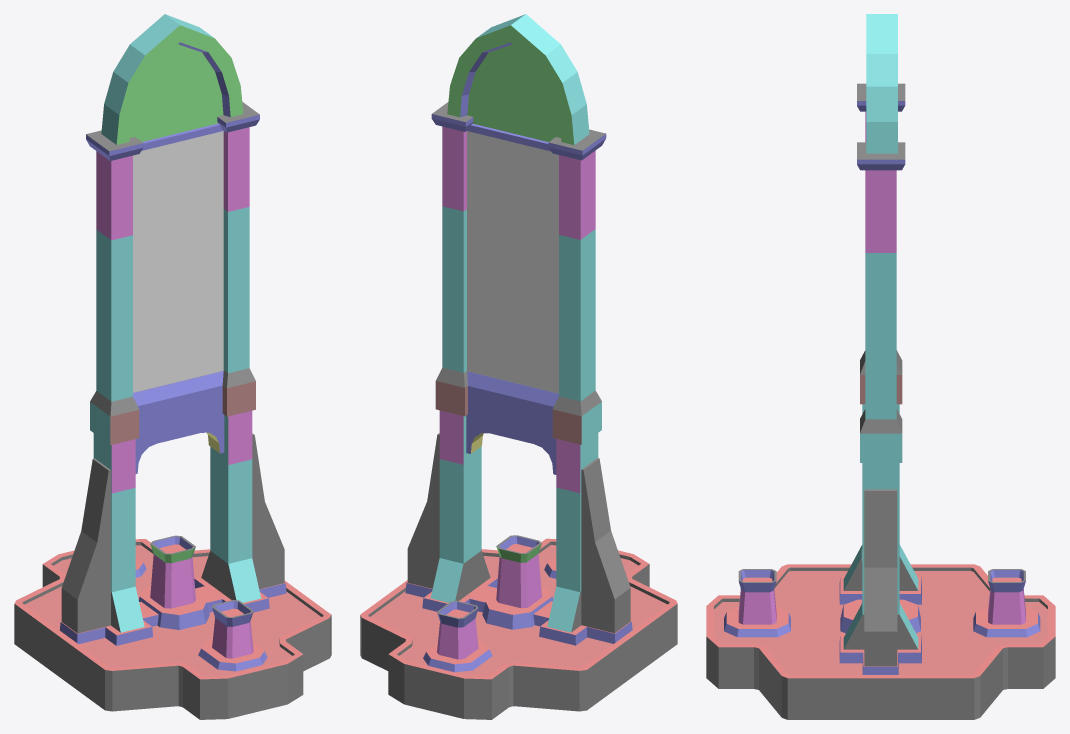
The model's file is Elf_Guard_1.gltf.
3 renders of one model, left to right at view 1: azimuth 30°, elevation 25°; view 2: azimuth 150°, elevation 25°; view 3: azimuth 270°, elevation 25°, orthographic. The views are drawn at different scales.
Parts seen in each view (by area): view 1: Elf_Guard_1; view 2: Elf_Guard_1; view 3: Elf_Guard_1.
Part boxes in pixels (box(x1,y1,x2,y2)): Elf_Guard_1: box(14, 14, 331, 719); Elf_Guard_1: box(360, 14, 677, 719); Elf_Guard_1: box(706, 14, 1055, 719).
Size of the model in its own units: 3.51 by 9.32 by 4.55.
